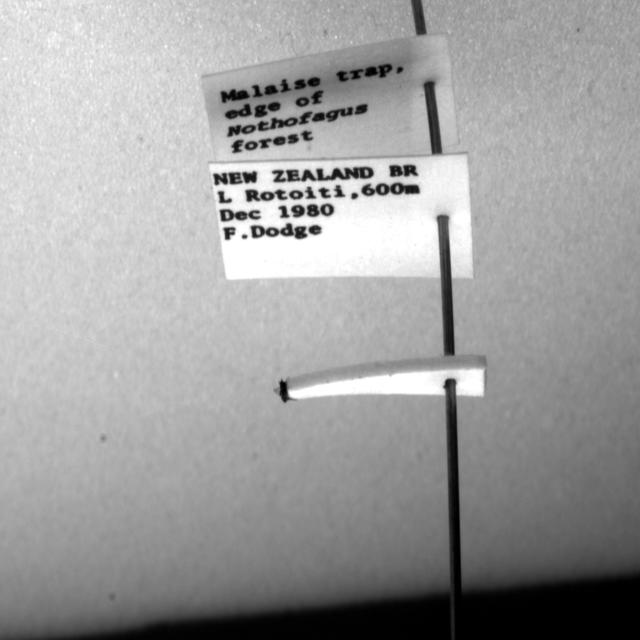typed_label: (209, 154, 474, 279), (202, 34, 459, 161)
